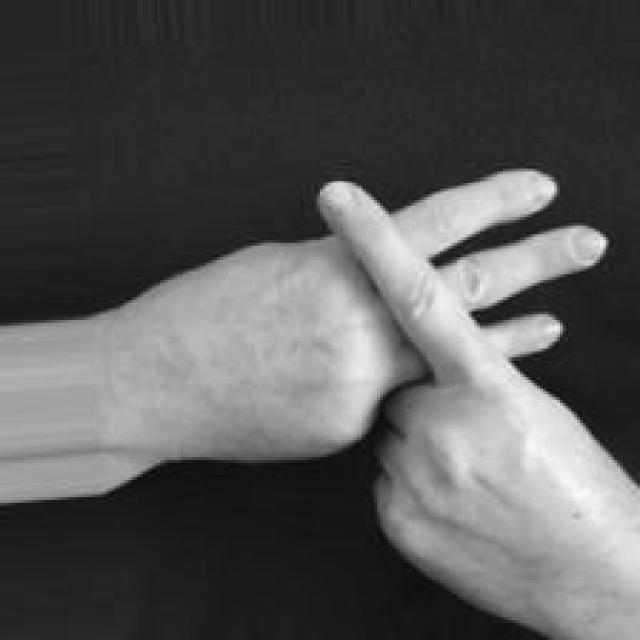E: (163, 151, 640, 640)
